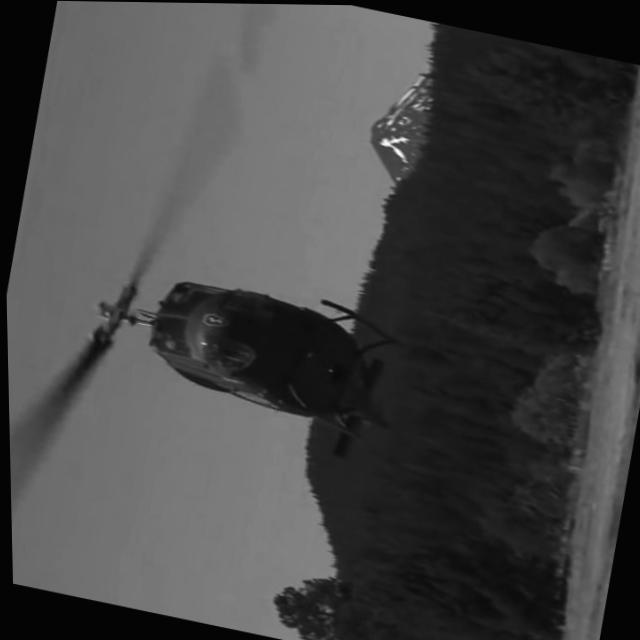helikopter: (41, 215, 451, 490)
